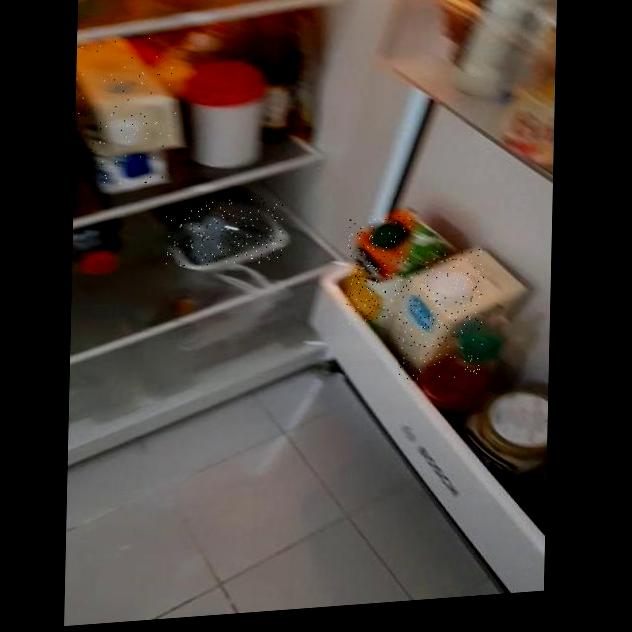broccoli: (165, 196, 284, 270)
juice: (346, 215, 413, 326)
milk: (75, 36, 178, 188), (398, 248, 485, 382)
